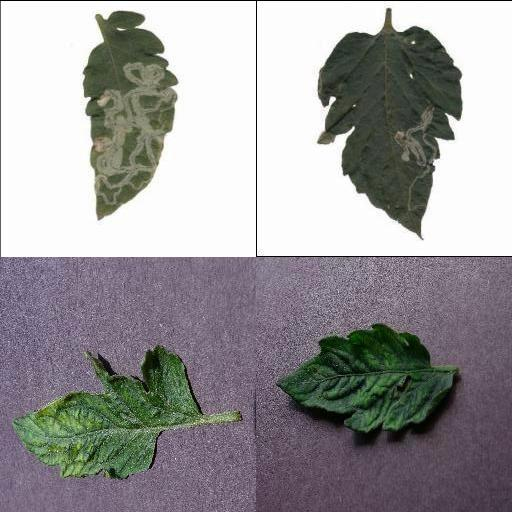Leaf Miner: (314, 25, 462, 239), (82, 10, 180, 219)
Mosaic Virus: (10, 342, 204, 478), (273, 320, 454, 434)
